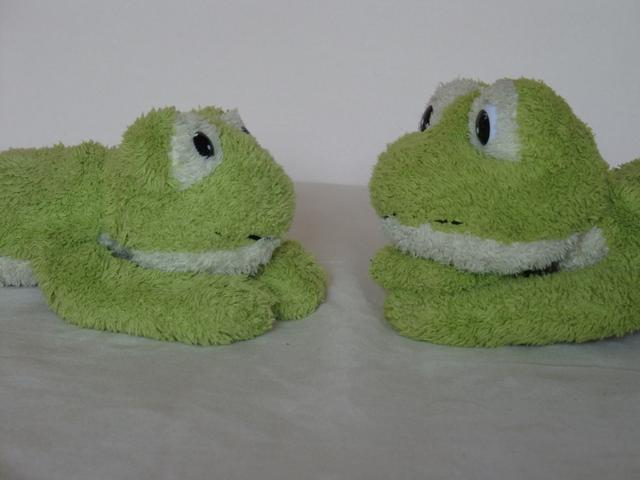frog: (16, 51, 370, 360), (362, 32, 619, 367)
